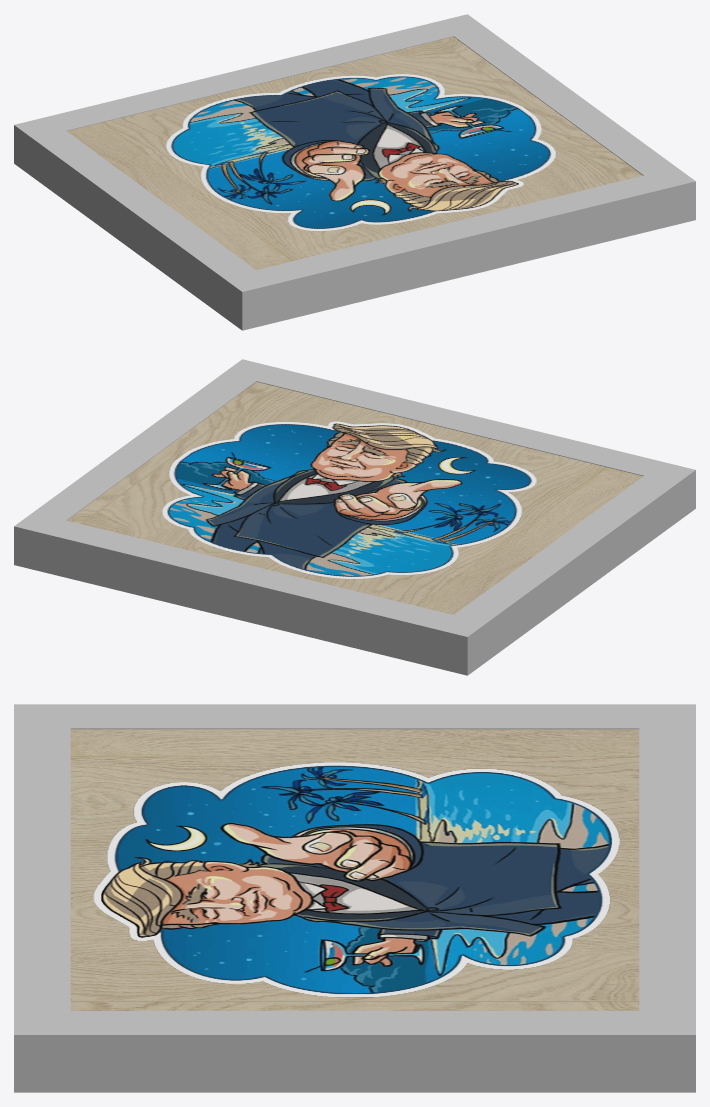
The model's file is Puzzle_19.FBX.
3 renders of one model, top to bottom at view 1: azimuth 30°, elevation 25°; view 2: azimuth 150°, elevation 25°; view 3: azimuth 270°, elevation 25°, orthographic. The views are drawn at different scales.
Parts seen in each view (by area): view 1: Box001, 035, 037, 028, 030, 032, 031, 029; view 2: Box001, 035, 037, 028, 030, 032, 031, 029; view 3: Box001, 035, 037, 032, 028, 030, 031, 029.
Part boxes in pixels (x1,y1,x2,y2): Box001: [14, 14, 695, 330]; 035: [67, 72, 355, 171]; 037: [308, 37, 524, 141]; 028: [210, 124, 475, 206]; 030: [404, 83, 642, 187]; 032: [114, 154, 351, 269]; 031: [257, 171, 474, 246]; 029: [427, 136, 594, 222]; Box001: [14, 359, 695, 675]; 035: [212, 516, 500, 614]; 037: [67, 469, 330, 555]; 028: [258, 452, 523, 539]; 030: [137, 382, 328, 509]; 032: [428, 452, 642, 580]; 031: [354, 429, 571, 504]; 029: [233, 393, 449, 469]; Box001: [14, 704, 695, 1092]; 035: [426, 729, 639, 905]; 037: [355, 870, 639, 1010]; 032: [70, 729, 496, 799]; 028: [213, 764, 425, 940]; 030: [70, 941, 496, 1010]; 031: [70, 764, 283, 905]; 029: [70, 870, 283, 976].
Size of the model in its own units: 4 by 0.3257 by 3.48.
